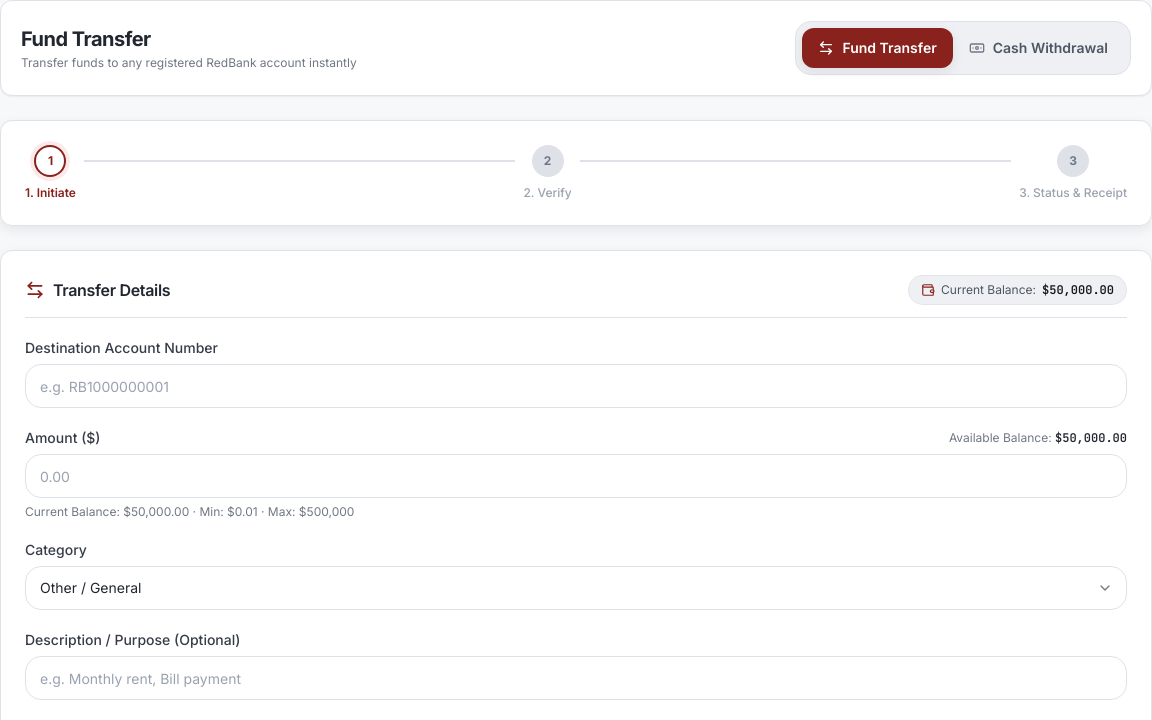
Scenario: TransactionForm › prevents proceeding to verify stage when amount exceeds current balance
Type "RB7A91F03C2D" into the field labelled "Destination Account Number" at (576, 386), box [25,364,1127,408]
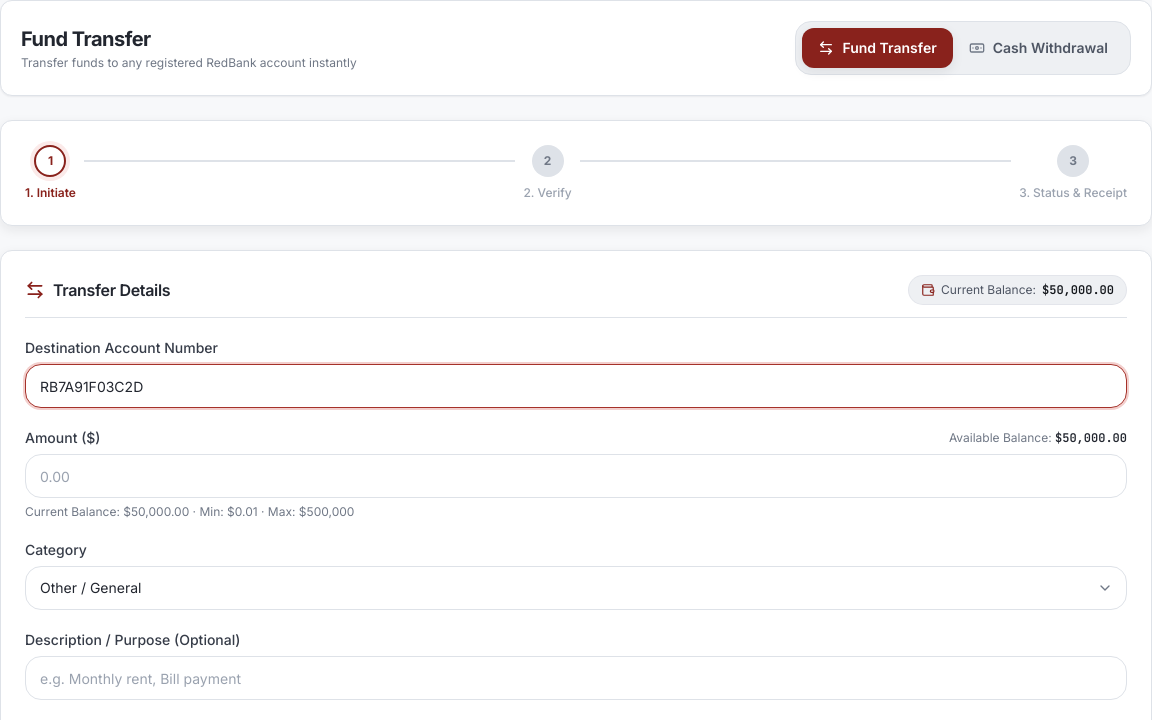
Type "60000.00" into the number field labelled "Amount ($) Available Balance: $50,000.00" at (576, 476), box [25,454,1127,498]
(page scrolled)
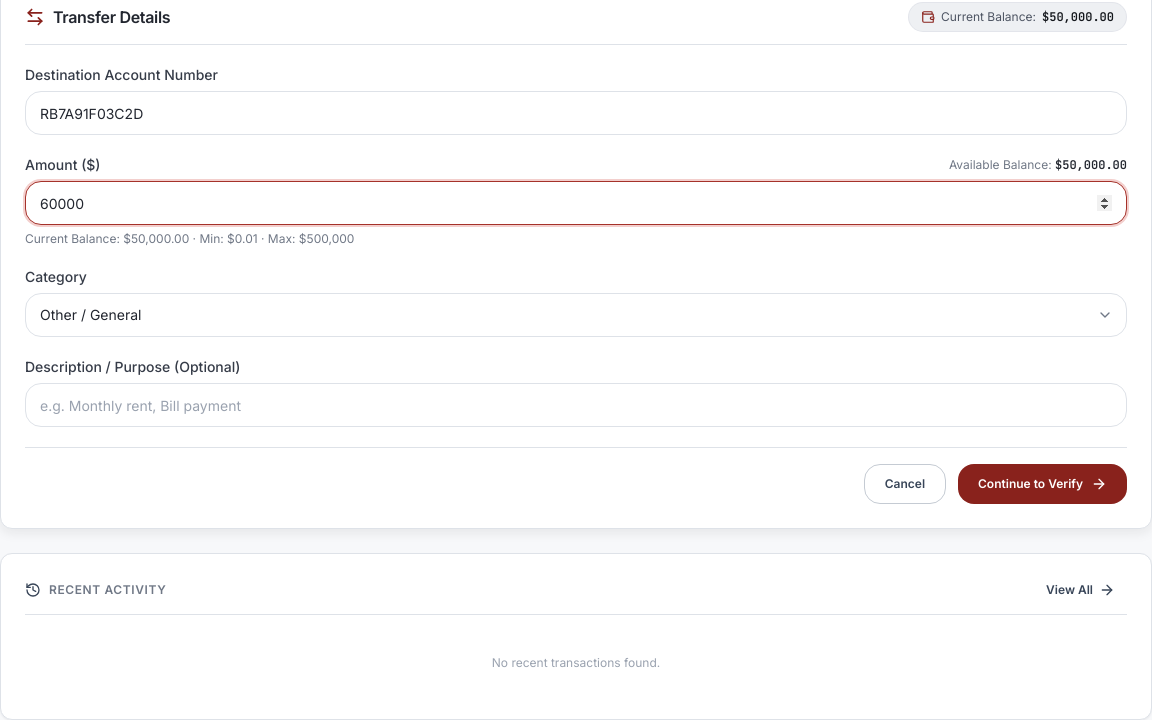
Click the button "Continue to Verify" at (1042, 484), box [958,464,1127,504]
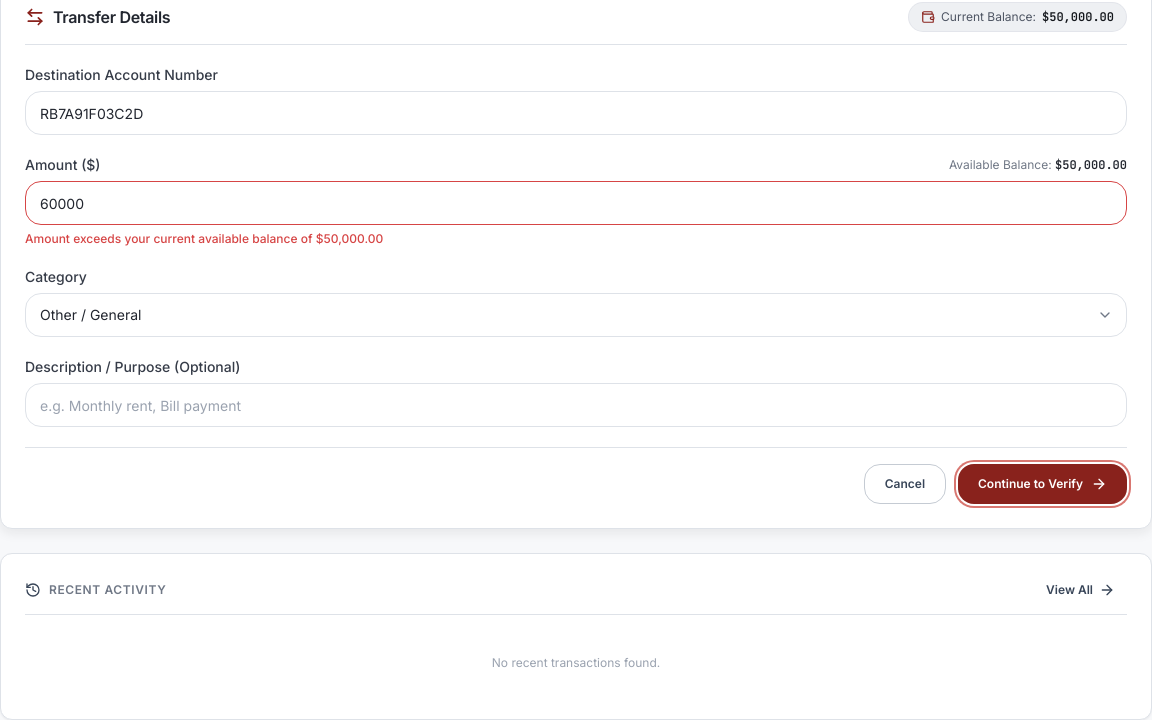
Check: the text "Amount exceeds your current available balance of $50,000.00" is shown, box [25,231,383,246]
